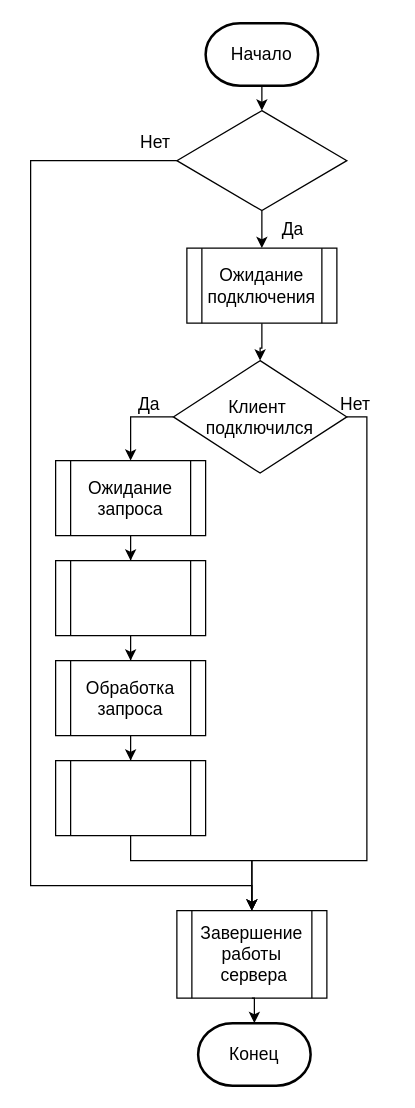
Some shapes in this 415 by 1108 pixel diagram are drawn without their labels. Each missing label, with the centre of its shape:
Возврат результата: [130,797]
Запуск сервера: [261,160]
Получение запроса: [130,597]
